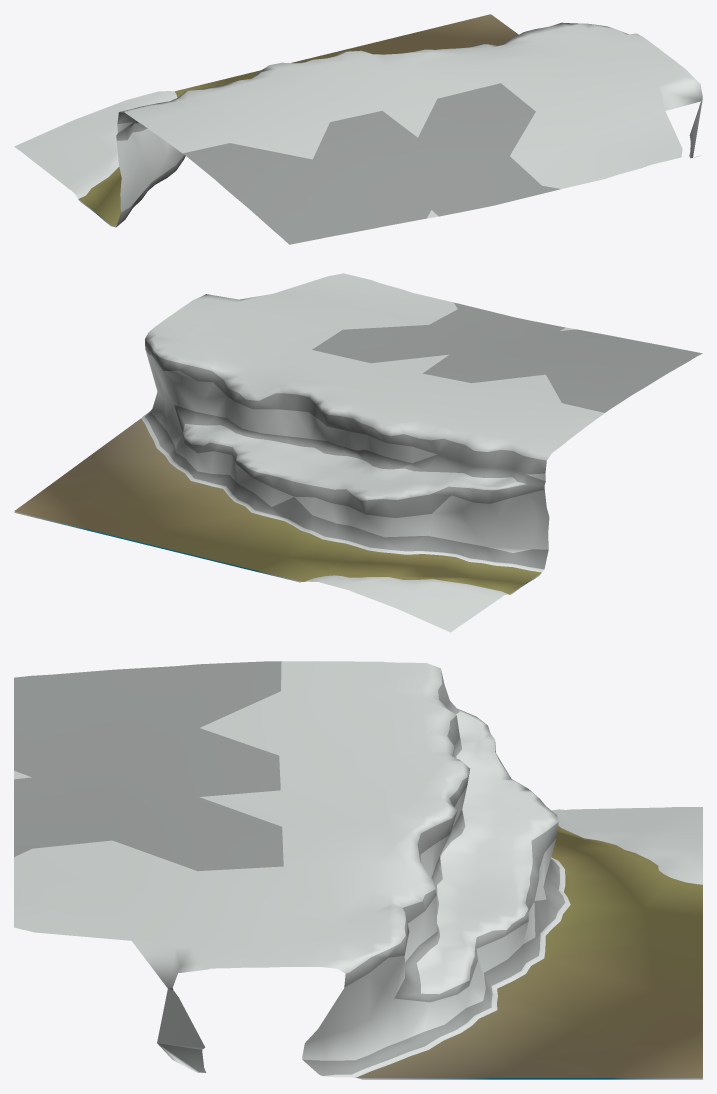
3 views of the same model, one above another, from view 1: azimuth 30°, elevation 25°; view 2: azimuth 150°, elevation 25°; view 3: azimuth 270°, elevation 25° (orthographic). The views are drawn at different scales.
Visible parts, largest first — view 1: G:\FFXIV-MapTools\exports\r2f1\bg\ex1\01_roc_r2\fld\r2f1\bgp (×6); view 2: G:\FFXIV-MapTools\exports\r2f1\bg\ex1\01_roc_r2\fld\r2f1\bgp (×7); view 3: G:\FFXIV-MapTools\exports\r2f1\bg\ex1\01_roc_r2\fld\r2f1\bgp (×7).
Part boxes in pixels (<box>): G:\FFXIV-MapTools\exports\r2f1\bg\ex1\01_roc_r2\fld\r2f1\bgp (×6): <box>14,14,702,244</box>; G:\FFXIV-MapTools\exports\r2f1\bg\ex1\01_roc_r2\fld\r2f1\bgp (×7): <box>14,273,702,632</box>; G:\FFXIV-MapTools\exports\r2f1\bg\ex1\01_roc_r2\fld\r2f1\bgp (×7): <box>14,661,702,1079</box>.
Size of the model in its own units: 128 by 32.12 by 128.
